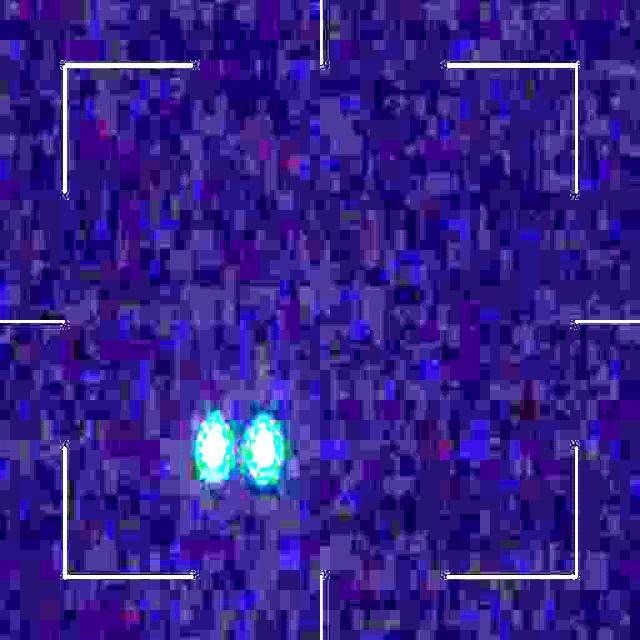bird: (201, 426, 278, 470)
